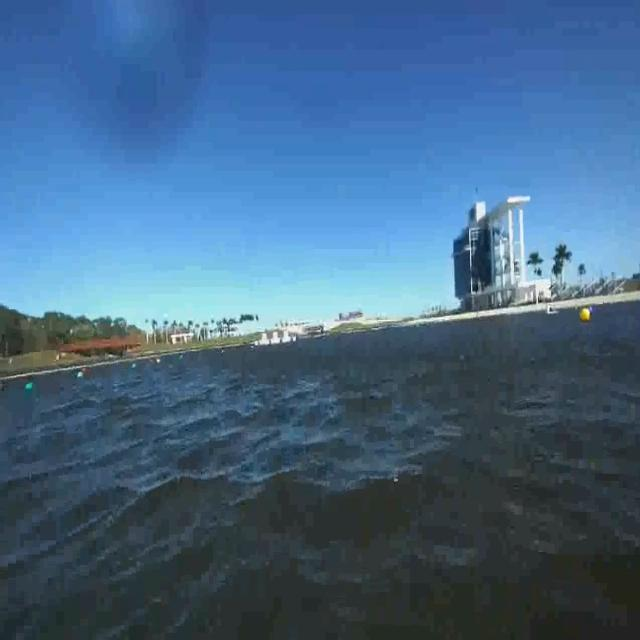yellow-buoy: (581, 306, 592, 324)
